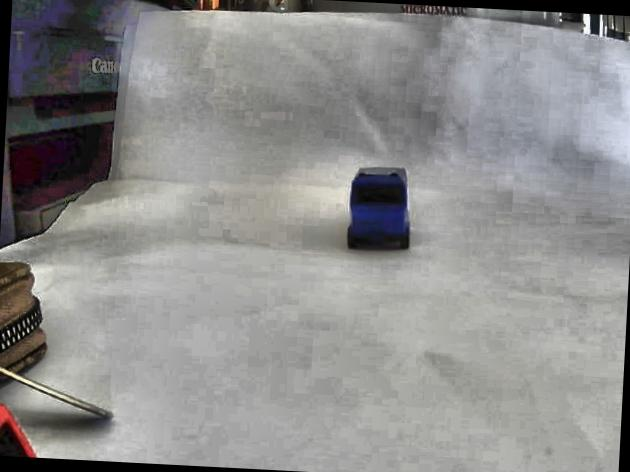police car: (338, 165, 420, 257)
